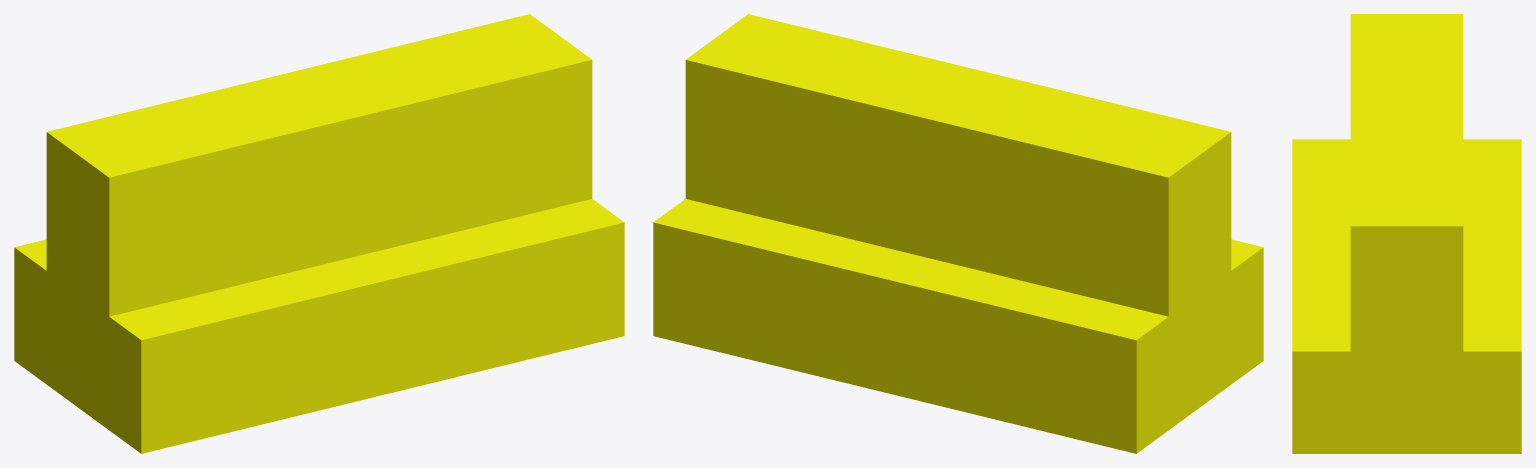
Rendered from nominal.obj.
3 views of the same model, side by side, from view 1: azimuth 30°, elevation 25°; view 2: azimuth 150°, elevation 25°; view 3: azimuth 270°, elevation 25° (orthographic). The views are drawn at different scales.
Parts seen in each view (by area): view 1: nominal; view 2: nominal; view 3: nominal.
Boxes of the visible parts, x1=… form: nominal: x1=14, y1=14, x2=624, y2=453; nominal: x1=653, y1=14, x2=1263, y2=453; nominal: x1=1292, y1=14, x2=1521, y2=453.
Size of the model in its own units: 4.39 by 2.19 by 2.
